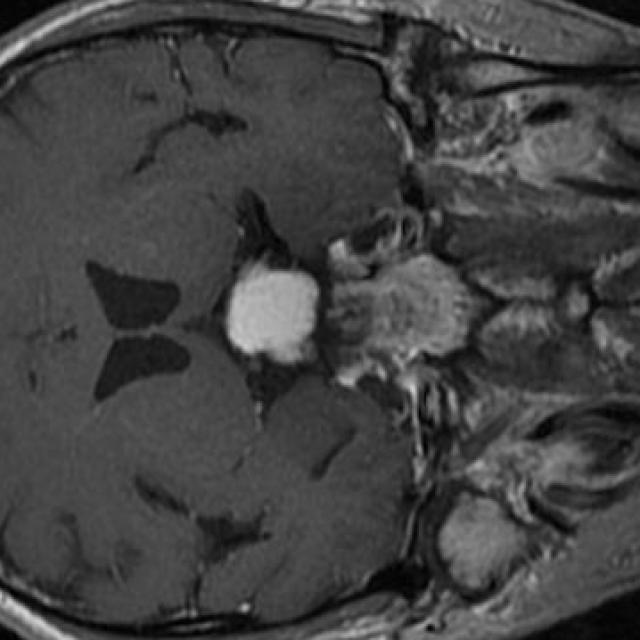meningioma: (228, 267, 319, 362)
